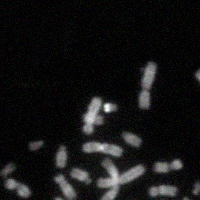chromosome: (96, 164, 145, 187), (101, 158, 121, 200), (139, 61, 156, 109), (83, 97, 102, 135), (53, 173, 77, 200), (82, 141, 122, 157), (4, 178, 31, 198), (153, 159, 182, 173), (148, 185, 177, 198), (121, 130, 142, 147), (71, 167, 91, 184), (55, 144, 69, 167), (81, 113, 104, 124), (0, 162, 16, 177), (27, 139, 44, 152), (194, 69, 200, 99), (103, 102, 117, 113), (191, 181, 200, 194), (52, 197, 87, 200), (174, 197, 191, 200), (154, 199, 168, 200)
